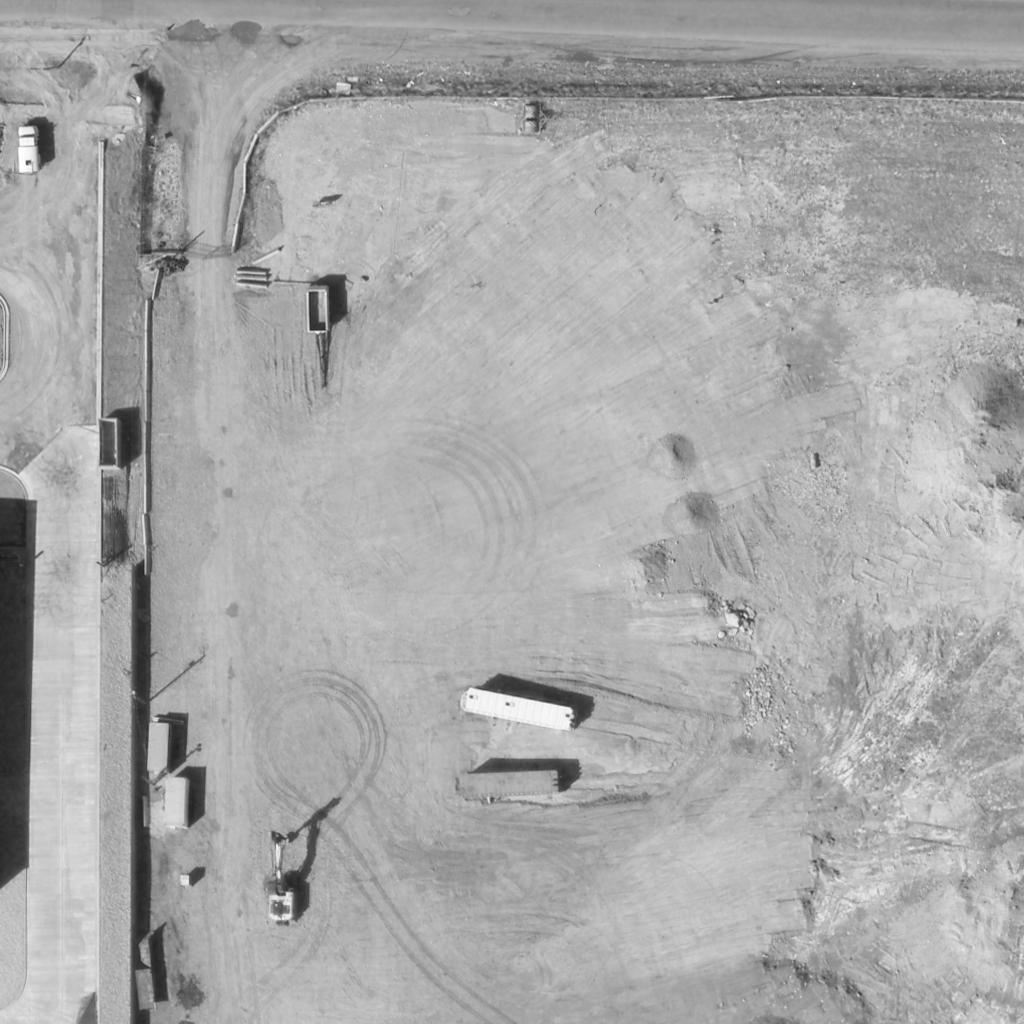vehicle: (265, 832, 301, 924), (17, 126, 41, 174)
